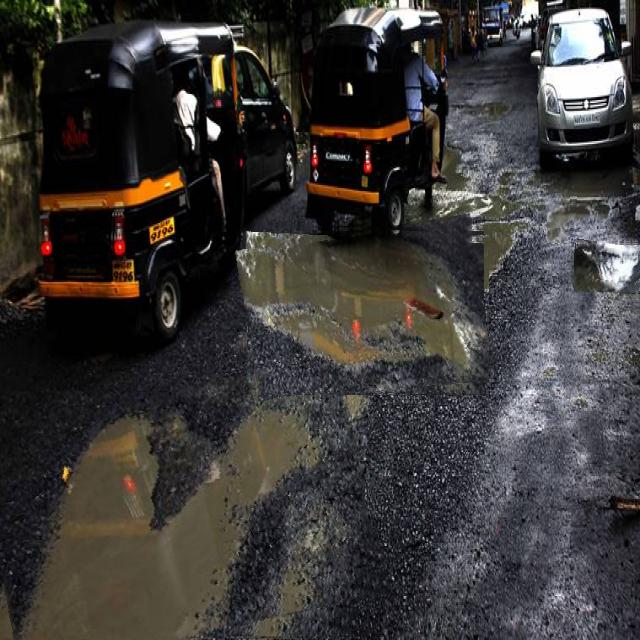Pothole: (0, 373, 381, 640), (241, 222, 489, 395), (574, 241, 640, 292), (547, 186, 592, 244)
